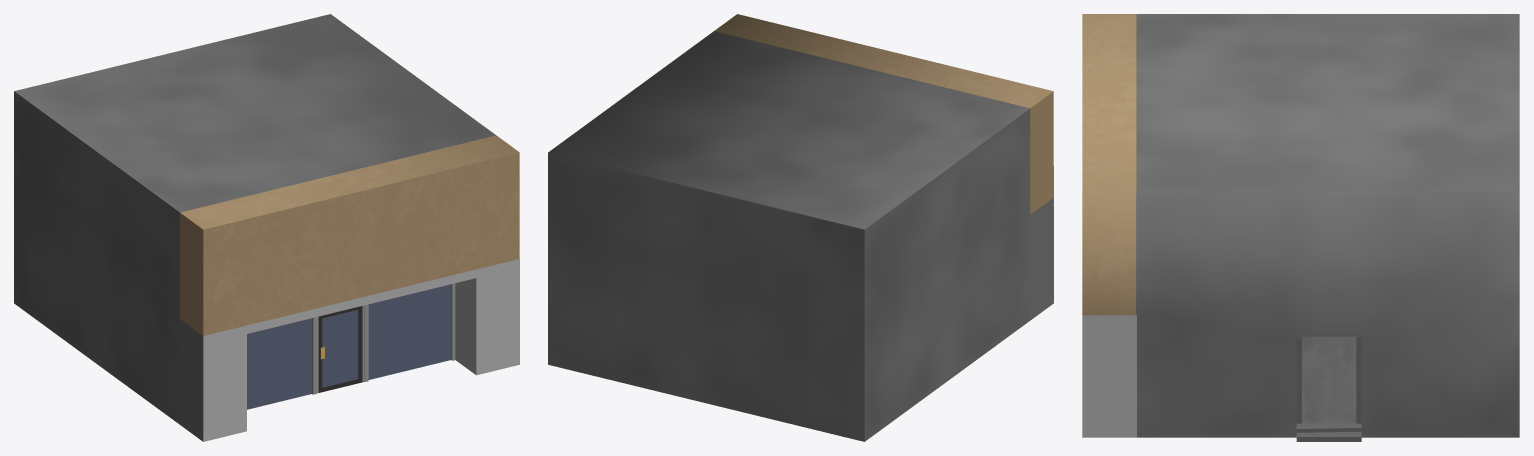
File: restaurant_1.fbx
The picture shows the model from 3 angles, left to right: view 1: azimuth 30°, elevation 25°; view 2: azimuth 150°, elevation 25°; view 3: azimuth 270°, elevation 25°; orthographic projection. The views are drawn at different scales.
Visible parts, largest first — view 1: 003; view 2: 003; view 3: 003.
Boxes of the visible parts, x1,y1,x2,y2 form: 003: [14, 14, 519, 441]; 003: [548, 14, 1053, 441]; 003: [1082, 14, 1519, 441].
Size of the model in its own units: 2063 by 1292 by 2087.
